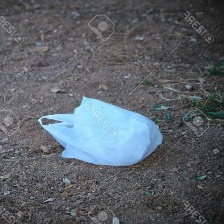plastic_bag: (35, 93, 166, 171)
